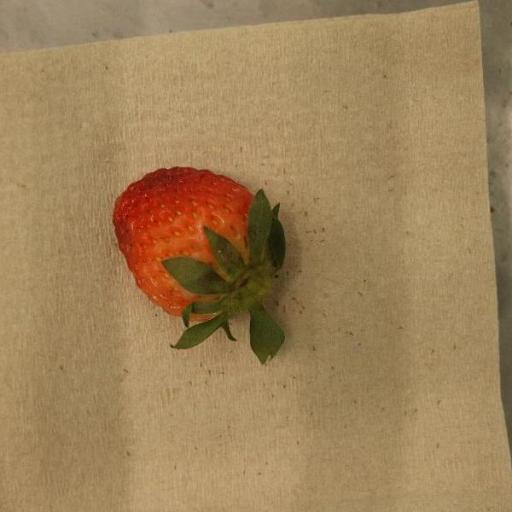Strawberry: (113, 167, 286, 366)
